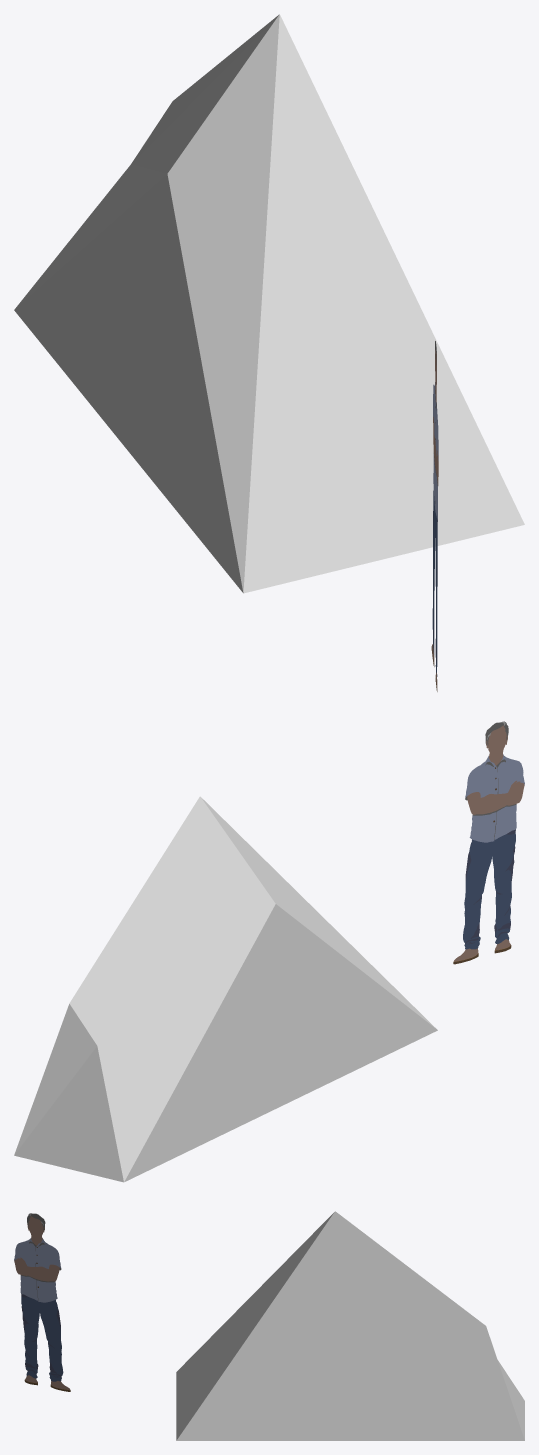
The model's file is BrokenGlass2.fbx.
The picture shows the model from 3 angles, top to bottom: view 1: azimuth 30°, elevation 25°; view 2: azimuth 150°, elevation 25°; view 3: azimuth 270°, elevation 25°; orthographic projection. The views are drawn at different scales.
Parts seen in each view (by area): view 1: Model, Niraj1; view 2: Model, Niraj1; view 3: Model, Niraj1.
Part boxes in pixels (x1,y1,x2,y2): Model: [14, 14, 524, 593]; Niraj1: [431, 341, 438, 691]; Model: [14, 796, 437, 1182]; Niraj1: [453, 721, 524, 964]; Model: [176, 1211, 524, 1440]; Niraj1: [14, 1213, 70, 1391].
Bounding box in the file's own units: 60.62 × 85.84 × 190.
